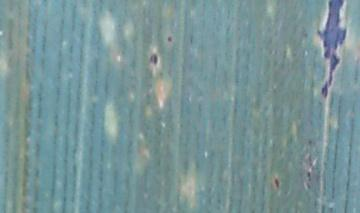tarspot: (318, 1, 347, 96), (149, 53, 159, 64), (304, 170, 312, 180), (273, 178, 280, 188), (166, 35, 173, 43)
